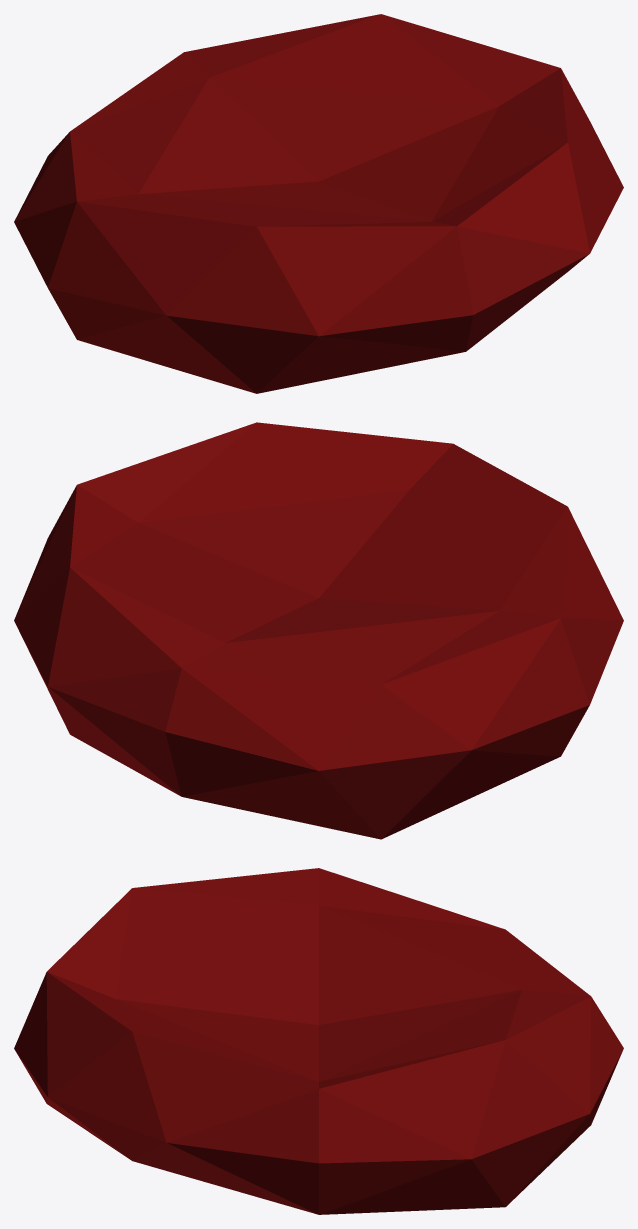
The model's file is Red_blood_cell.fbx.
3 renders of one model, top to bottom at view 1: azimuth 30°, elevation 25°; view 2: azimuth 150°, elevation 25°; view 3: azimuth 270°, elevation 25°, orthographic.
Parts seen in each view (by area): view 1: Red_blood_cell; view 2: Red_blood_cell; view 3: Red_blood_cell.
Part boxes in pixels (<box>): Red_blood_cell: <box>14,14,623,393</box>; Red_blood_cell: <box>14,422,623,839</box>; Red_blood_cell: <box>14,868,623,1214</box>.
Bounding box in the file's own units: 0.6954 × 0.2507 × 0.6775.
